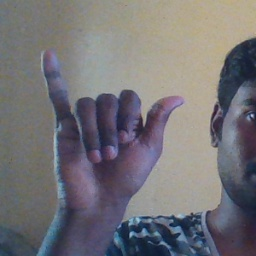J: (32, 46, 186, 204)
